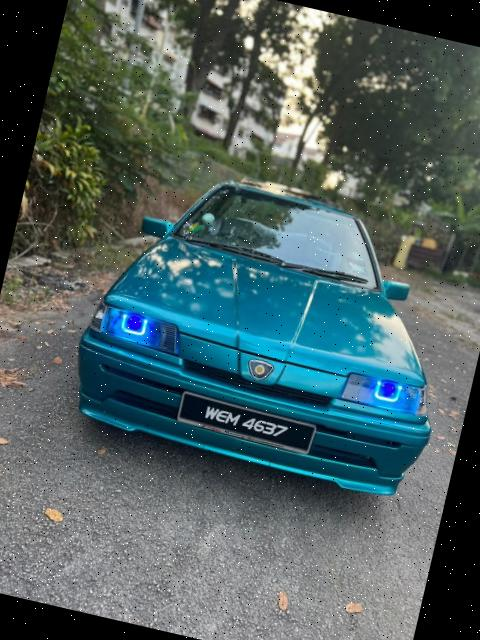License_Plate: (178, 392, 311, 453)
car: (55, 156, 477, 519)
